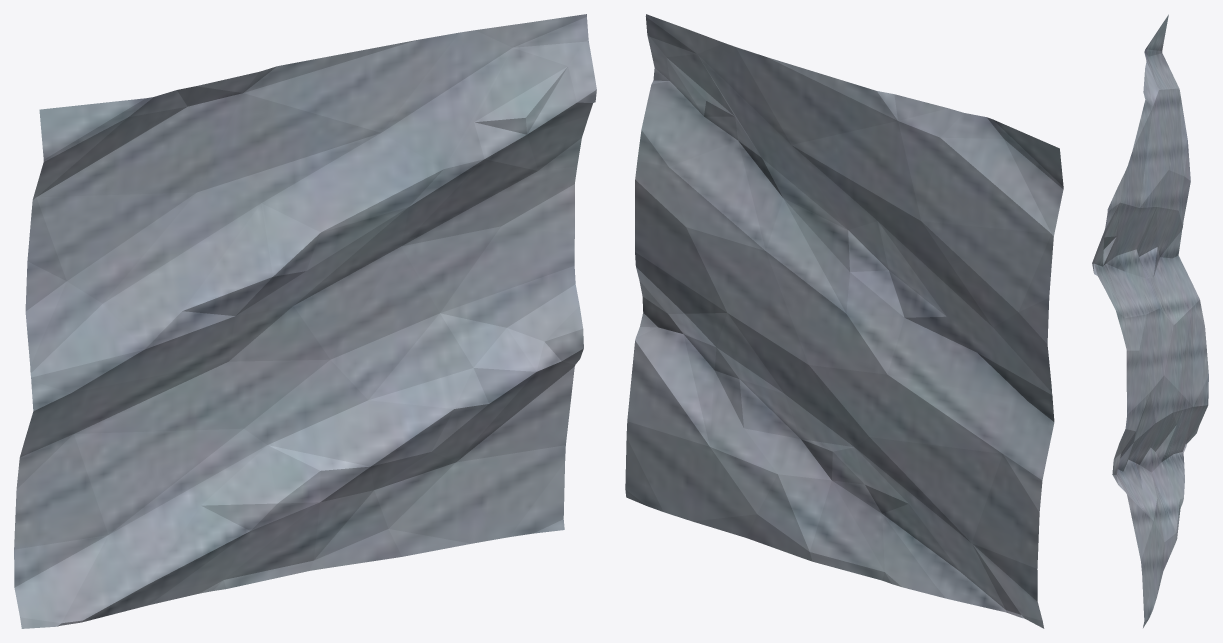
File: Tile_+004_+006_L24_0030221.obj
3 views of the same model, side by side, from view 1: azimuth 30°, elevation 25°; view 2: azimuth 150°, elevation 25°; view 3: azimuth 270°, elevation 25° (orthographic). The views are drawn at different scales.
Size of the model in its own units: 0.9531 by 0.9531 by 0.2408.
1 material, 1 textured.
